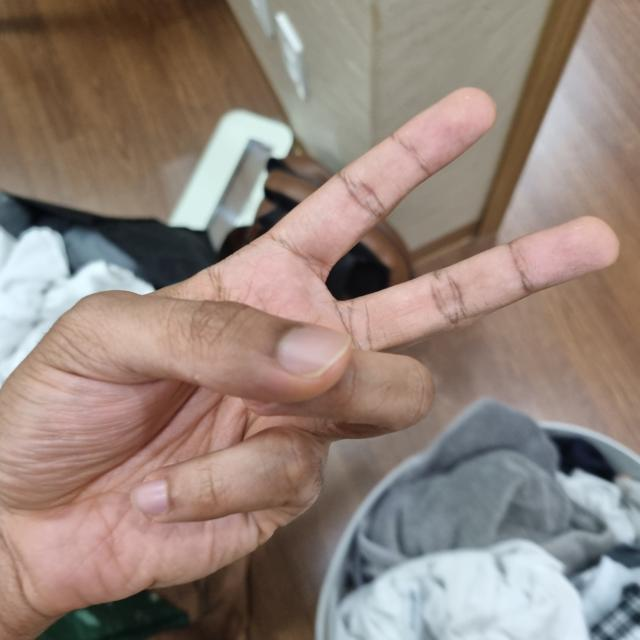Scissors: (0, 86, 615, 618)
